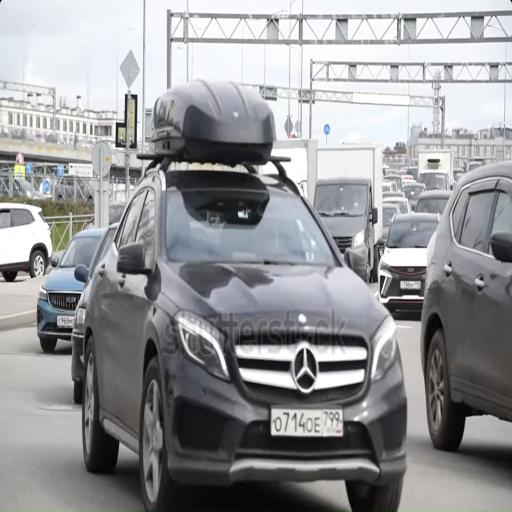License plates: (271, 408, 343, 437), (57, 316, 74, 328), (401, 281, 420, 290), (379, 248, 383, 256), (341, 253, 344, 261)
